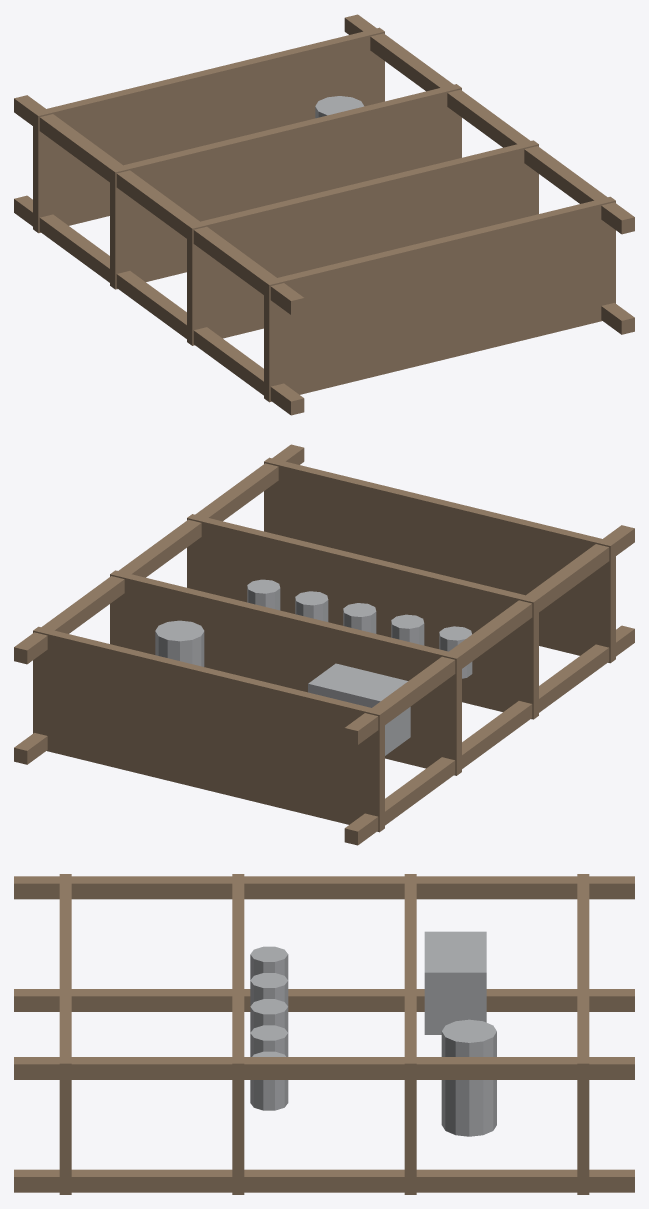
The model's file is furniture_shelving.glb.
3 views of the same model, one above another, from view 1: azimuth 30°, elevation 25°; view 2: azimuth 150°, elevation 25°; view 3: azimuth 270°, elevation 25° (orthographic). The views are drawn at different scales.
Parts seen in each view (by area): view 1: Furniture_Shelving; view 2: Furniture_Shelving; view 3: Furniture_Shelving.
Part boxes in pixels (bbox=[...]): Furniture_Shelving: bbox=[14, 14, 634, 415]; Furniture_Shelving: bbox=[14, 444, 634, 845]; Furniture_Shelving: bbox=[14, 874, 634, 1194].
Size of the model in its own units: 1.3 by 0.42 by 1.8.
